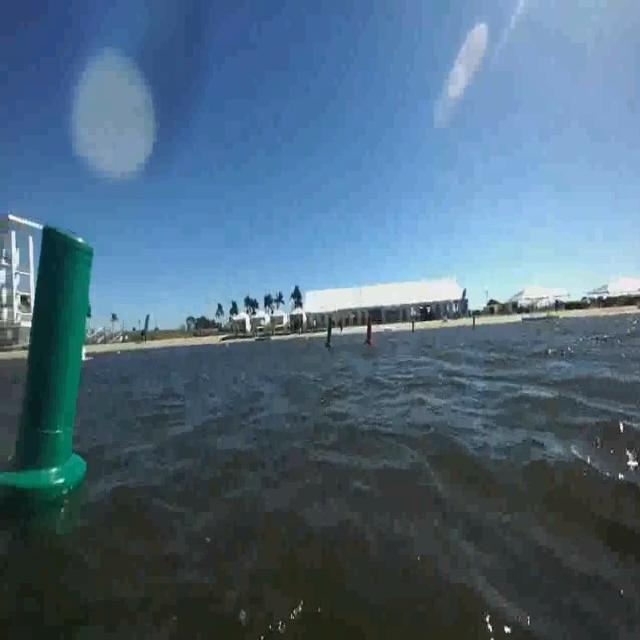green-column-buoy: (2, 229, 95, 496), (323, 317, 334, 350)
red-column-buoy: (363, 314, 374, 346)
